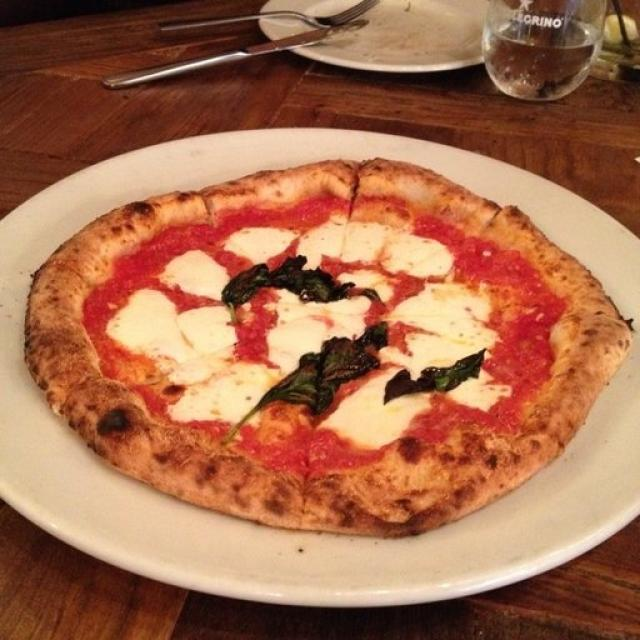Basil: (238, 323, 388, 428), (227, 256, 378, 301), (383, 349, 482, 402)
Cheese: (300, 214, 451, 275), (174, 307, 243, 414), (392, 281, 494, 346), (274, 288, 370, 340), (112, 289, 178, 360), (164, 245, 225, 301), (336, 382, 382, 449), (224, 223, 288, 260), (388, 398, 431, 446), (460, 386, 510, 417)
Pizza: (30, 161, 633, 537)
